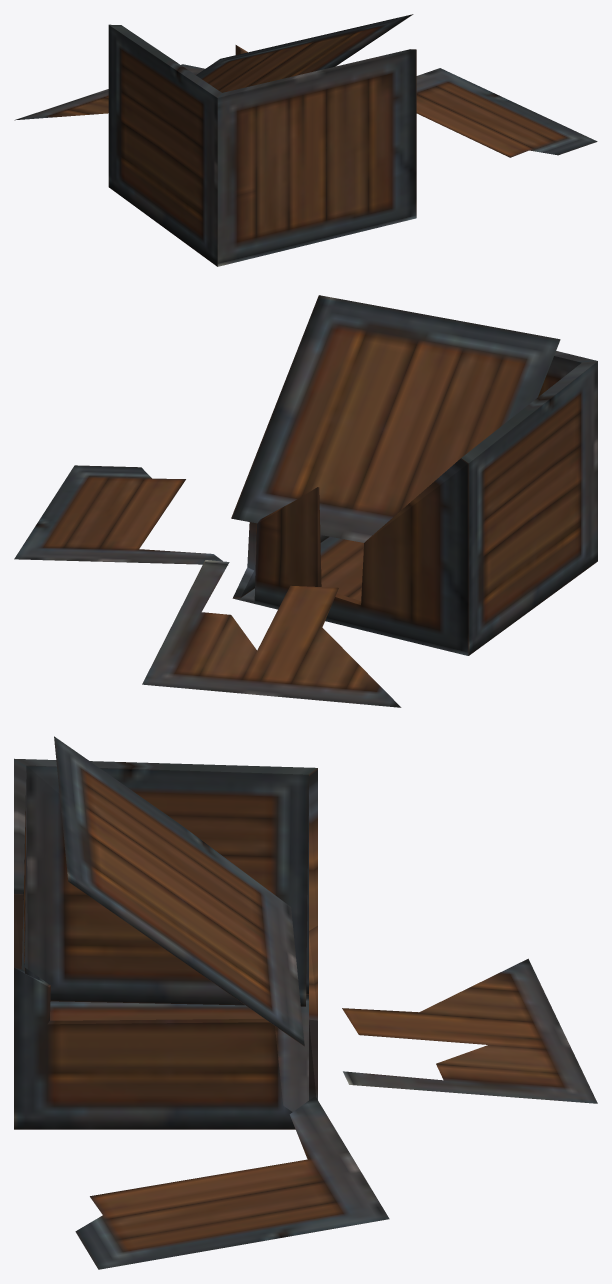
File: 2_YiZhan_ZaWu_PoMuXiang_01.FBX
3 renders of one model, top to bottom at view 1: azimuth 30°, elevation 25°; view 2: azimuth 150°, elevation 25°; view 3: azimuth 270°, elevation 25°, orthographic. The views are drawn at different scales.
Visible parts, largest first — view 1: 2_YiZhan_ZaWu_PoMuXiang_01; view 2: 2_YiZhan_ZaWu_PoMuXiang_01; view 3: 2_YiZhan_ZaWu_PoMuXiang_01.
Boxes of the visible parts, box(x1,y1,x2,y2) form: 2_YiZhan_ZaWu_PoMuXiang_01: box(14, 14, 597, 266); 2_YiZhan_ZaWu_PoMuXiang_01: box(14, 295, 597, 707); 2_YiZhan_ZaWu_PoMuXiang_01: box(14, 736, 597, 1269).
Bounding box in the file's own units: 175 × 75.23 × 147.
Materials: 1 (1 with a texture image).
